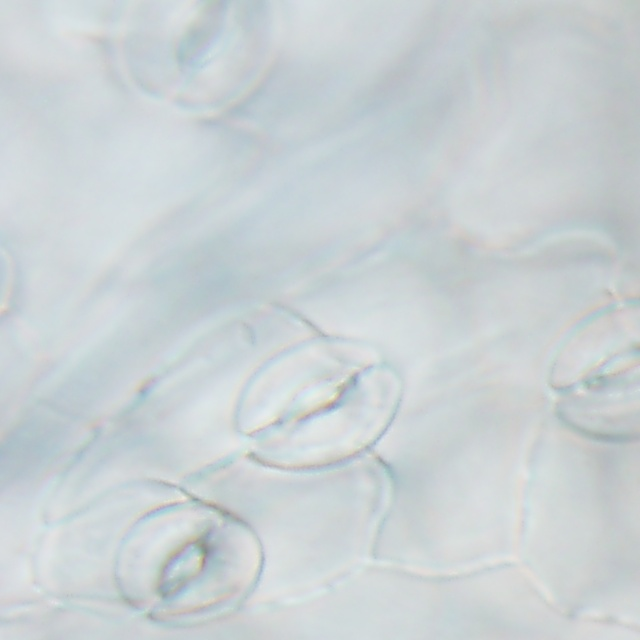center: (278, 376, 354, 426), (159, 540, 207, 597), (0, 276, 22, 279)
stomata-huw1: (235, 338, 400, 469), (114, 1, 281, 111), (116, 501, 262, 625), (550, 300, 639, 441), (1, 244, 13, 311)
